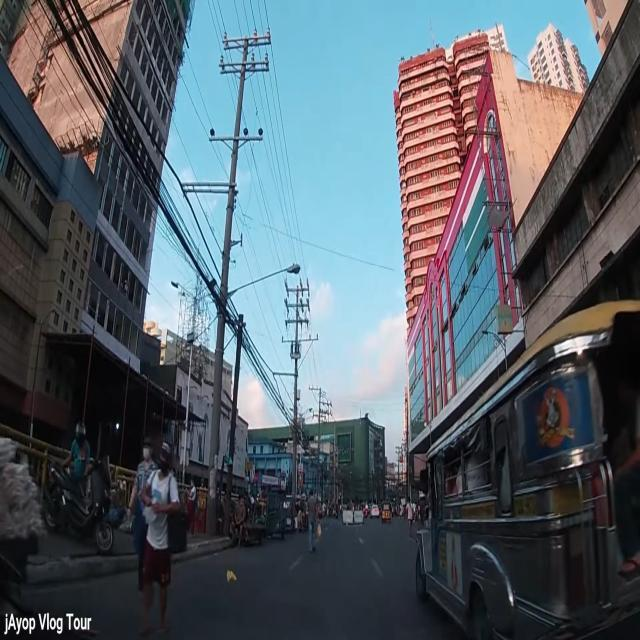jeepney: (410, 304, 640, 636)
motorcycle: (43, 450, 116, 552)
tricycle: (284, 494, 304, 533), (381, 500, 393, 525)
